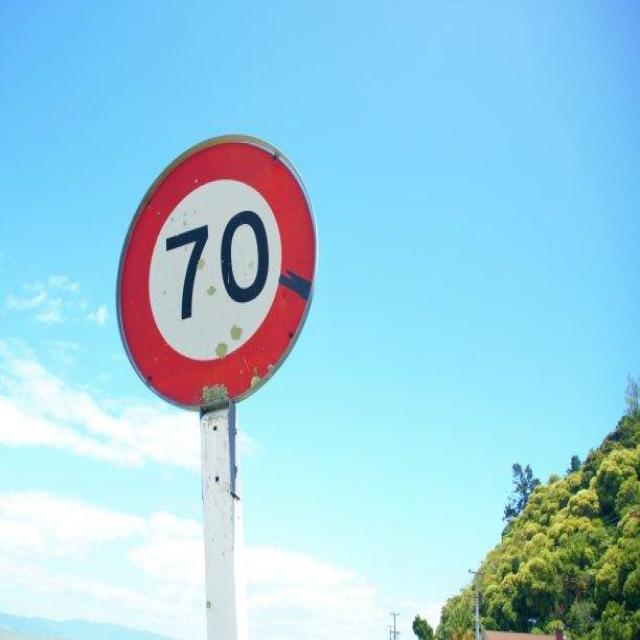speed limit 70: (114, 135, 316, 407)
